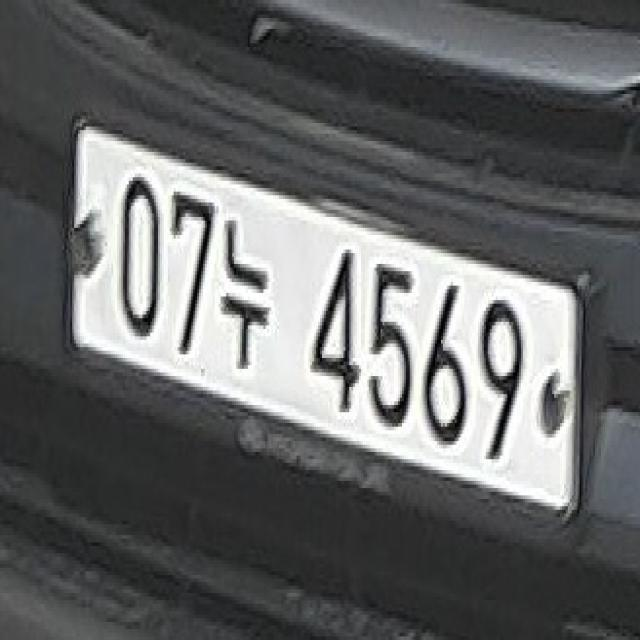plat: (64, 115, 587, 529)
